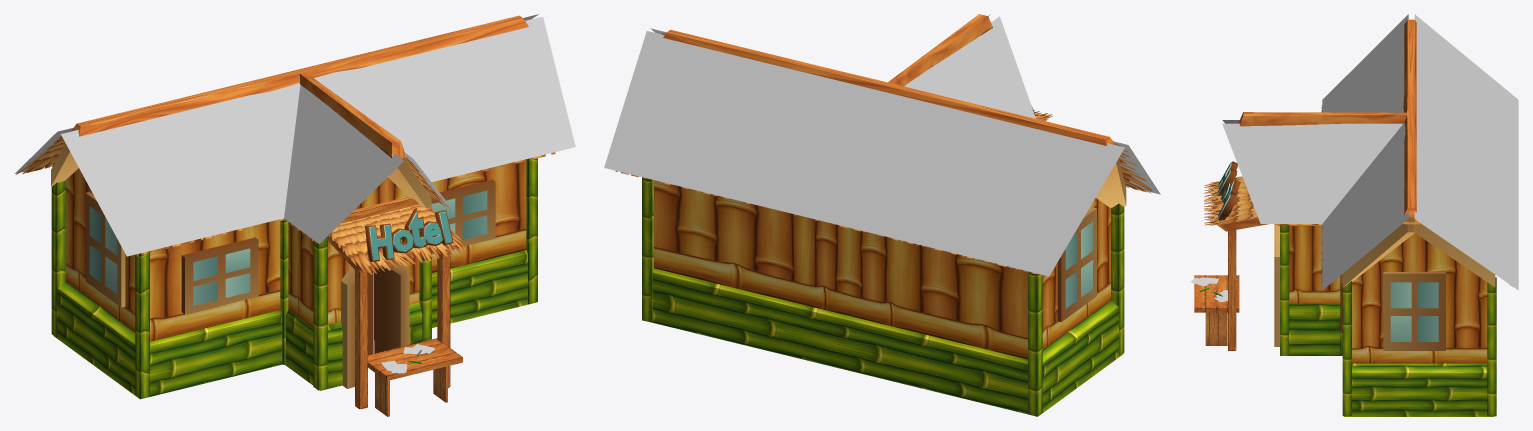
Rendered from Hotel.fbx.
3 views of the same model, side by side, from view 1: azimuth 30°, elevation 25°; view 2: azimuth 150°, elevation 25°; view 3: azimuth 270°, elevation 25° (orthographic). The views are drawn at different scales.
Visible parts, largest first — view 1: Plane.003, стены2, Plane.009, Plane.004, Cube.012, Plane.008, Plane.005, Cube.010, Cube.013, Cube.008, Cube.014, Text (+6 smaller); view 2: Plane.003, стены2, Plane.009, Plane.004, Cube.011, Cube.013, Cube.010, Plane.006, Plane.002; view 3: Plane.003, стены2, Plane.009, Cube.013, Plane.004, Plane.002, Plane.005, Cube.011, Cube.010, Cube.008, Cube.015, Cube.014 (+4 smaller).
Part boxes in pixels (x1=…): Plane.003: x1=15, y1=14, x2=575, y2=256; стены2: x1=65, y1=161, x2=526, y2=341; Plane.009: x1=54, y1=250, x2=536, y2=399; Plane.004: x1=71, y1=15, x2=528, y2=158; Cube.012: x1=181, y1=179, x2=495, y2=314; Plane.008: x1=341, y1=260, x2=409, y2=388; Plane.005: x1=329, y1=196, x2=466, y2=274; Cube.010: x1=135, y1=158, x2=537, y2=398; Cube.013: x1=85, y1=192, x2=125, y2=307; Cube.008: x1=313, y1=209, x2=431, y2=390; Cube.014: x1=355, y1=247, x2=450, y2=409; Text: x1=365, y1=208, x2=453, y2=261; Plane.003: x1=604, y1=14, x2=1160, y2=276; стены2: x1=654, y1=181, x2=1110, y2=359; Plane.009: x1=652, y1=268, x2=1123, y2=416; Plane.004: x1=663, y1=14, x2=1115, y2=145; Cube.011: x1=642, y1=177, x2=1042, y2=416; Cube.013: x1=1057, y1=207, x2=1096, y2=322; Cube.010: x1=1111, y1=203, x2=1124, y2=355; Plane.006: x1=615, y1=33, x2=1152, y2=275; Plane.002: x1=1095, y1=158, x2=1126, y2=207; Plane.003: x1=1222, y1=14, x2=1518, y2=290; стены2: x1=1289, y1=226, x2=1487, y2=363; Plane.009: x1=1289, y1=303, x2=1494, y2=416; Cube.013: x1=1383, y1=272, x2=1445, y2=350; Plane.004: x1=1238, y1=19, x2=1420, y2=224; Plane.002: x1=1278, y1=216, x2=1495, y2=287; Plane.005: x1=1204, y1=176, x2=1257, y2=225; Cube.011: x1=1487, y1=277, x2=1496, y2=416; Cube.010: x1=1342, y1=281, x2=1351, y2=415; Cube.008: x1=1280, y1=225, x2=1289, y2=355; Cube.015: x1=1194, y1=275, x2=1239, y2=312; Cube.014: x1=1228, y1=230, x2=1236, y2=350.
Bounding box in the file's own units: 713 × 357 × 482.
